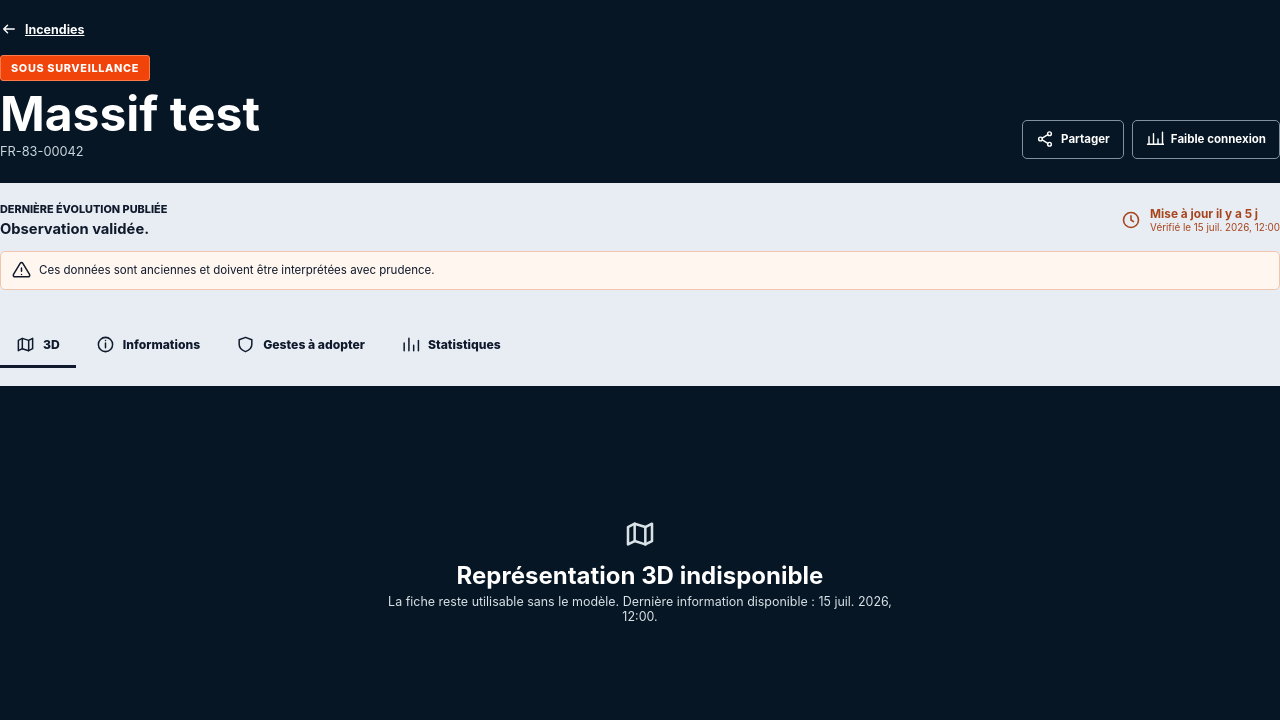
Test: affiche une page unique avec les quatre vues publiques validées
Expected: the heading "Massif test" is shown, [0,89,260,139]
Expected: the button "3D" is shown, [0,324,76,368]
What coordinates should you click on to do the following:
click the button "Informations"
I would click on:
 (148, 346)
Its box is [80,324,216,368].
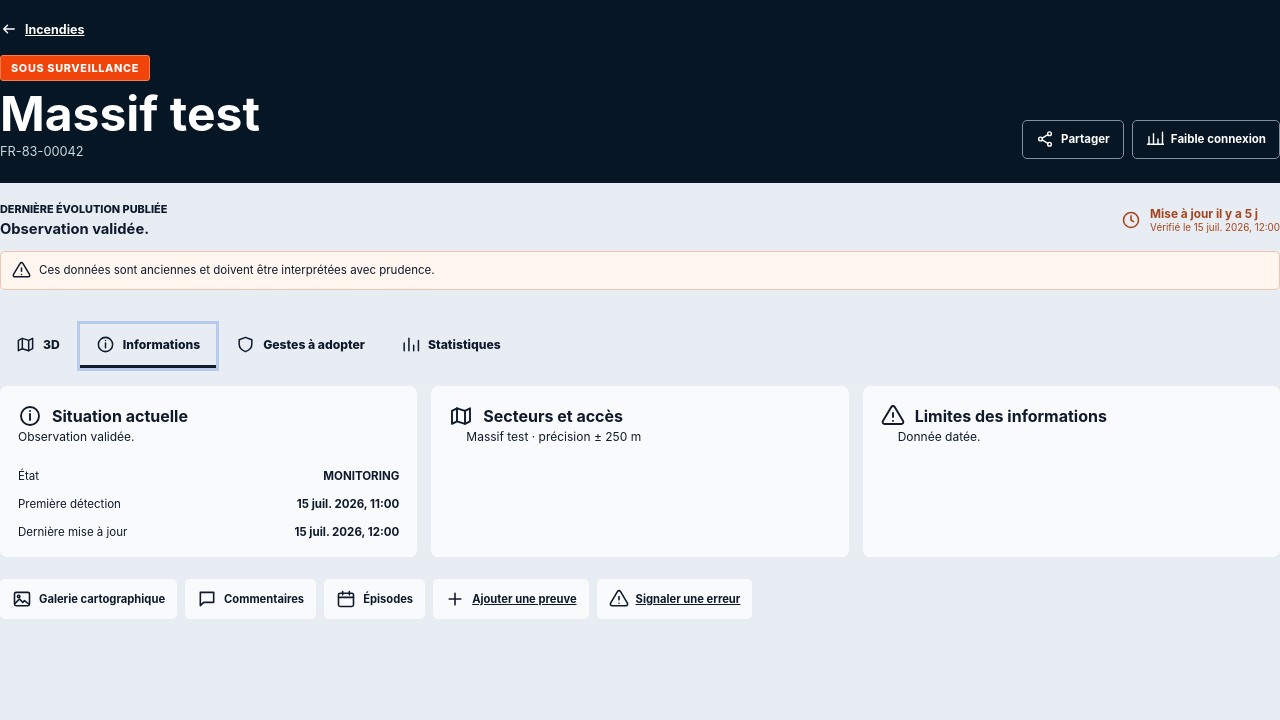
Expected: the heading "Situation actuelle" is shown, [52,406,188,426]
What coordinates should you click on to do the following:
click the button "Gestes à adopter"
I would click on:
 (301, 346)
Its box is [220,324,381,368].
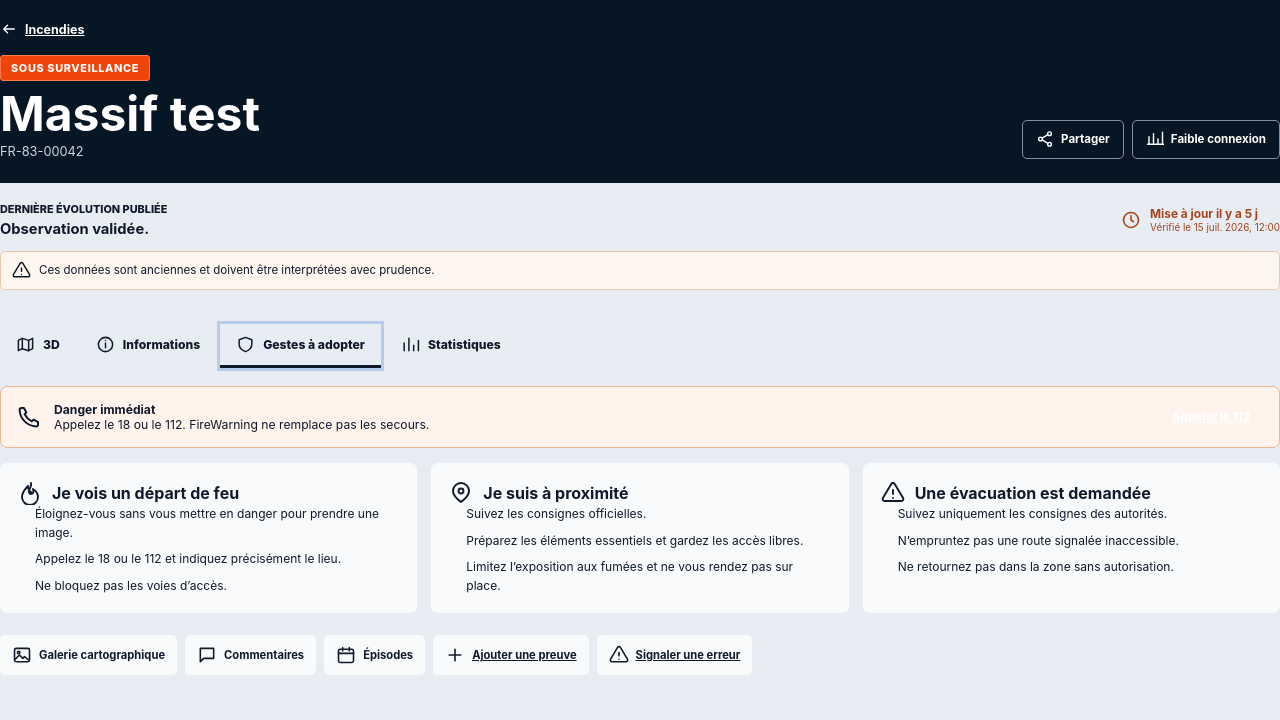
Expected: the text "Appelez le 18 ou le 112" is shown 2 times, [54,417,429,432]; [35,551,341,566]
What coordinates should you click on to do the following:
click the button "Statistiques"
I would click on:
 (451, 346)
Its box is [385,324,517,368].
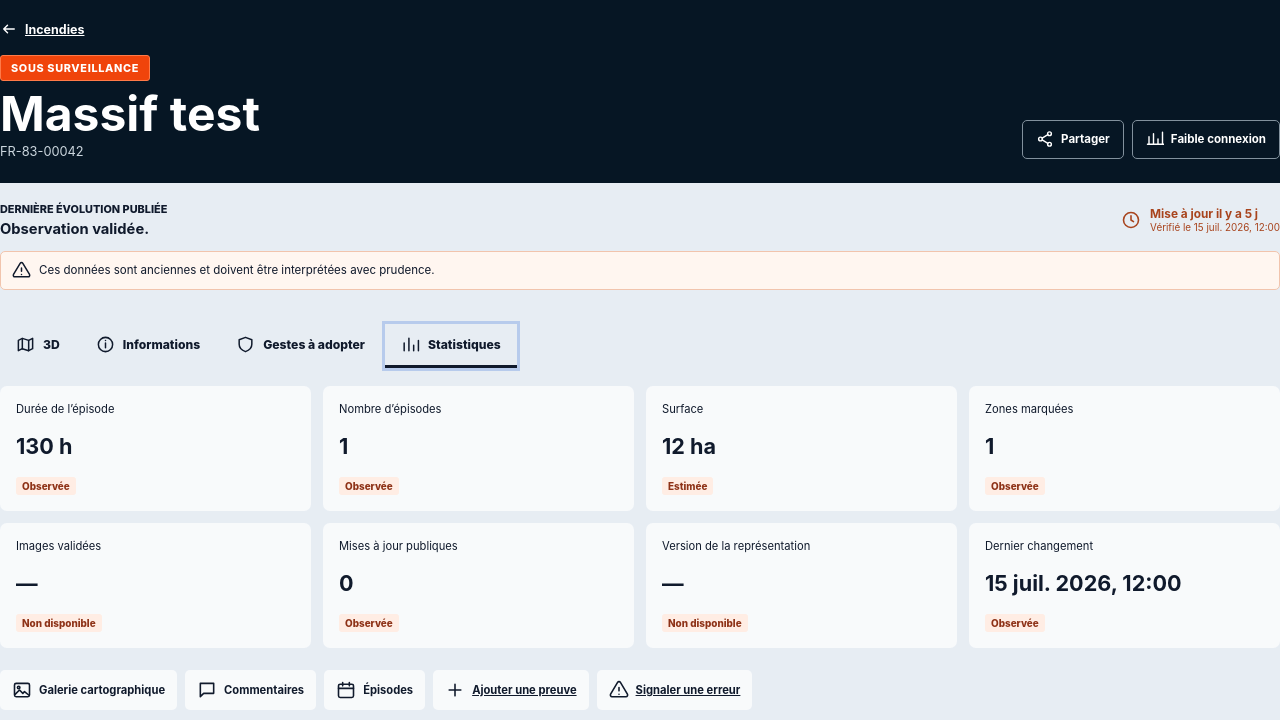
Expected: the text "Nombre d’épisodes" is shown, [339,402,442,416]
